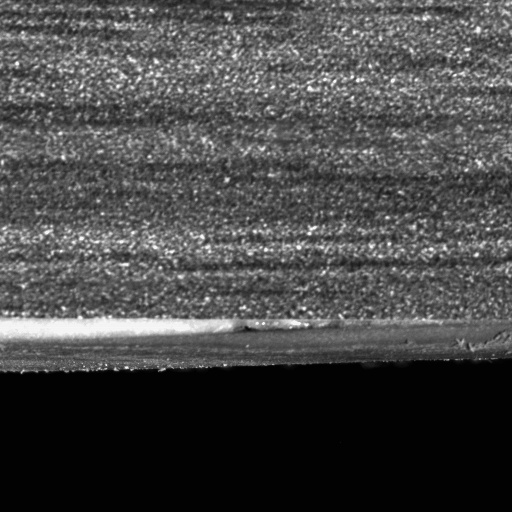kaijiao: (0, 313, 511, 376)
